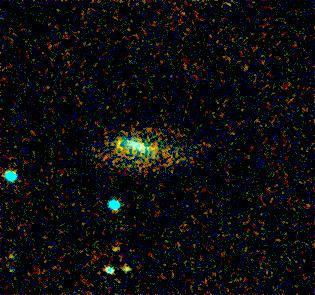star: (102, 231, 132, 261)
